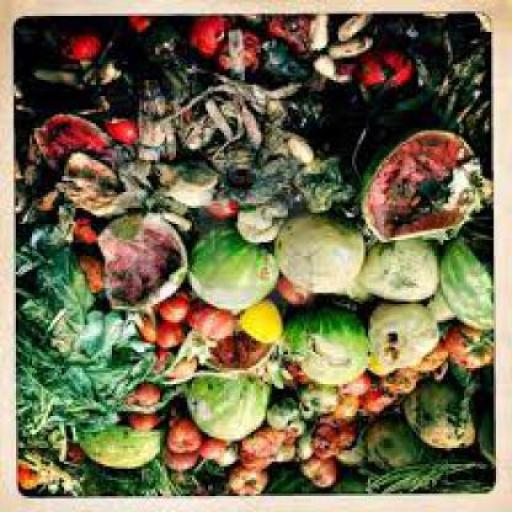biodegradable: (14, 13, 491, 501), (356, 130, 490, 245), (14, 180, 73, 439), (413, 14, 490, 178), (73, 279, 151, 434), (94, 217, 185, 313), (185, 224, 274, 315), (270, 220, 361, 300), (282, 308, 368, 391), (398, 372, 482, 452), (167, 80, 302, 128), (55, 155, 146, 222), (278, 137, 355, 215), (186, 374, 269, 444), (359, 240, 439, 306), (354, 94, 418, 176), (32, 116, 112, 180), (366, 304, 440, 370), (439, 240, 491, 331), (361, 459, 482, 496), (213, 156, 290, 212), (46, 469, 194, 498), (139, 20, 206, 84), (74, 427, 160, 471), (364, 418, 428, 472), (28, 59, 121, 96), (190, 100, 238, 164), (153, 162, 215, 210), (454, 205, 492, 277), (320, 86, 357, 156), (206, 331, 267, 373), (357, 48, 411, 94), (235, 199, 286, 244), (212, 32, 260, 78), (188, 18, 236, 64), (265, 128, 313, 174), (137, 194, 188, 236), (444, 329, 492, 373), (258, 41, 306, 85), (226, 103, 263, 160), (237, 302, 282, 347), (265, 18, 309, 64), (188, 304, 236, 343), (263, 462, 313, 496), (238, 430, 283, 464), (294, 386, 336, 421), (164, 420, 202, 458), (54, 34, 99, 66), (174, 119, 210, 158), (224, 464, 266, 496), (414, 480, 494, 496), (475, 407, 494, 473), (322, 466, 366, 494), (409, 343, 444, 377), (297, 460, 334, 492), (157, 453, 197, 482), (309, 425, 338, 462), (324, 40, 372, 62), (308, 60, 348, 86), (379, 370, 416, 398), (276, 279, 314, 306), (359, 386, 393, 416), (265, 400, 295, 434), (76, 256, 100, 298), (452, 368, 492, 393), (132, 121, 164, 151), (153, 322, 185, 352), (263, 361, 292, 393), (185, 473, 222, 498), (98, 124, 135, 148), (334, 19, 370, 43), (199, 199, 233, 224), (336, 370, 366, 398), (153, 298, 185, 324), (123, 386, 160, 408), (165, 359, 194, 384), (270, 439, 295, 466), (16, 469, 41, 496), (308, 18, 327, 53), (236, 450, 265, 472), (133, 318, 155, 347), (282, 364, 308, 388), (292, 430, 311, 462), (428, 300, 452, 324), (126, 416, 158, 434), (197, 444, 226, 463), (231, 14, 265, 30), (284, 419, 306, 443), (126, 19, 153, 38), (337, 391, 356, 418), (334, 425, 354, 450), (366, 357, 391, 377), (74, 226, 96, 248), (313, 414, 350, 427), (62, 444, 82, 468), (336, 448, 358, 466), (430, 363, 448, 382), (215, 451, 233, 470), (153, 350, 169, 370), (334, 66, 354, 78)
